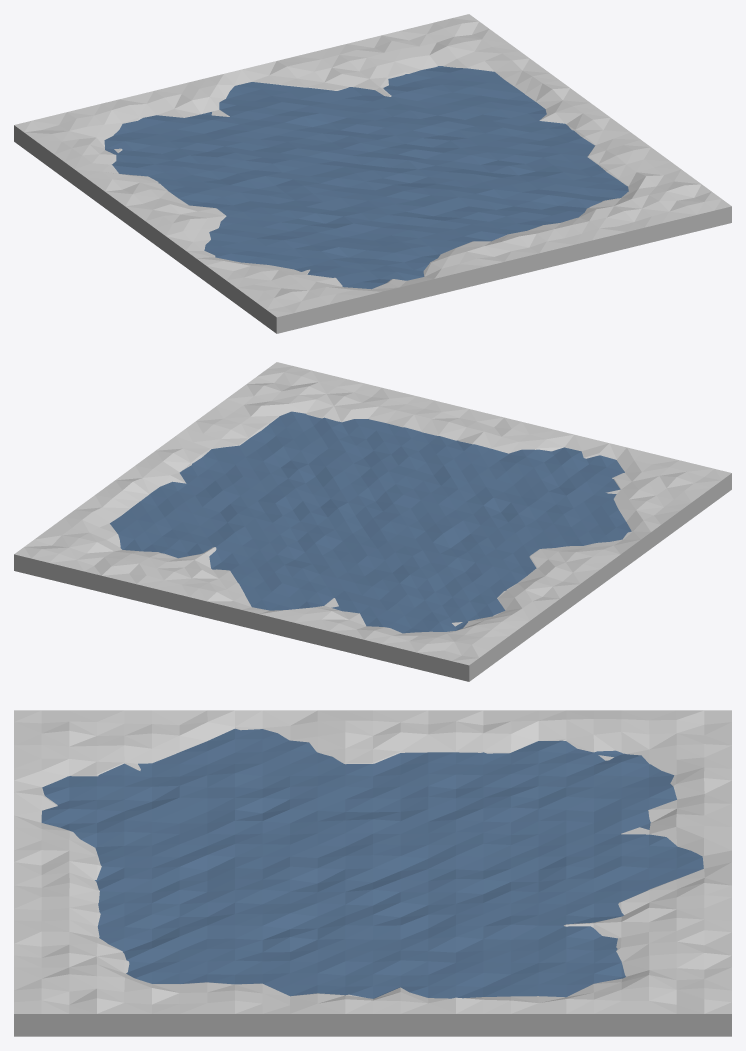
Rendered from WaterSingleLakeTile.fbx.
3 renders of one model, top to bottom at view 1: azimuth 30°, elevation 25°; view 2: azimuth 150°, elevation 25°; view 3: azimuth 270°, elevation 25°, orthographic. The views are drawn at different scales.
Parts seen in each view (by area): view 1: WaterSingleLakeTile.001; view 2: WaterSingleLakeTile.001; view 3: WaterSingleLakeTile.001.
Boxes of the visible parts, x1,y1,x2,y2 form: WaterSingleLakeTile.001: [14, 14, 731, 333]; WaterSingleLakeTile.001: [14, 362, 731, 681]; WaterSingleLakeTile.001: [14, 710, 731, 1036].
Bounding box in the file's own units: 1000 × 41.78 × 1000.
